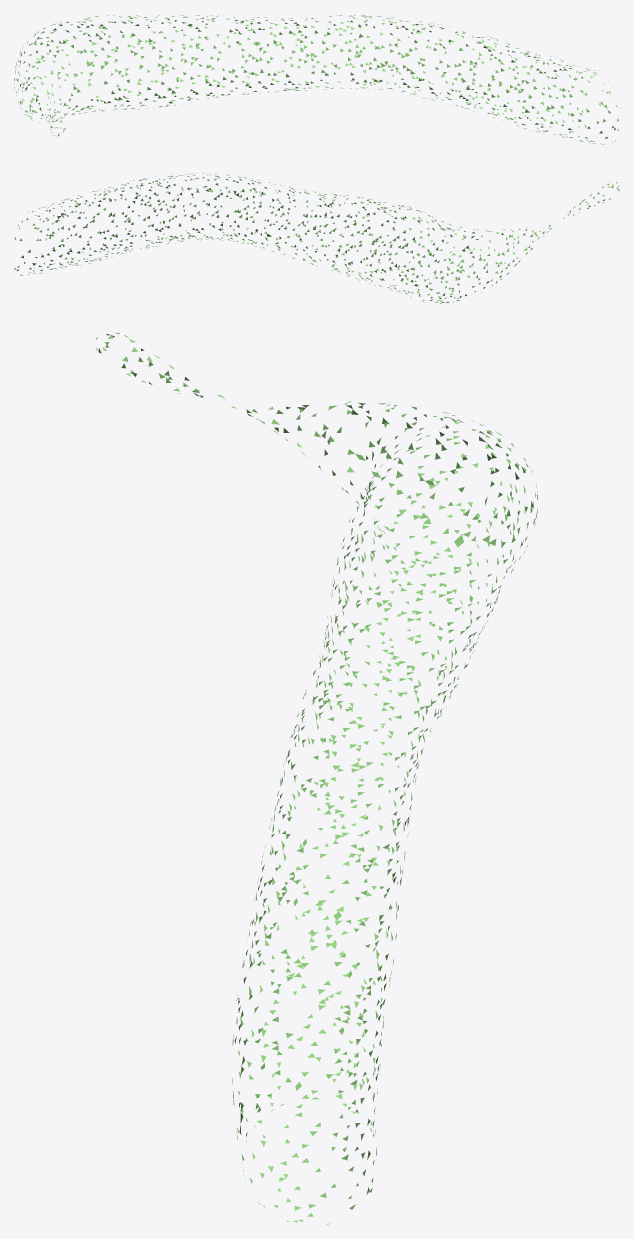
The model's file is morph_015.glb.
3 renders of one model, top to bottom at view 1: azimuth 30°, elevation 25°; view 2: azimuth 150°, elevation 25°; view 3: azimuth 270°, elevation 25°, orthographic. The views are drawn at different scales.
Size of the model in its own units: 116 by 37.98 by 41.17.
